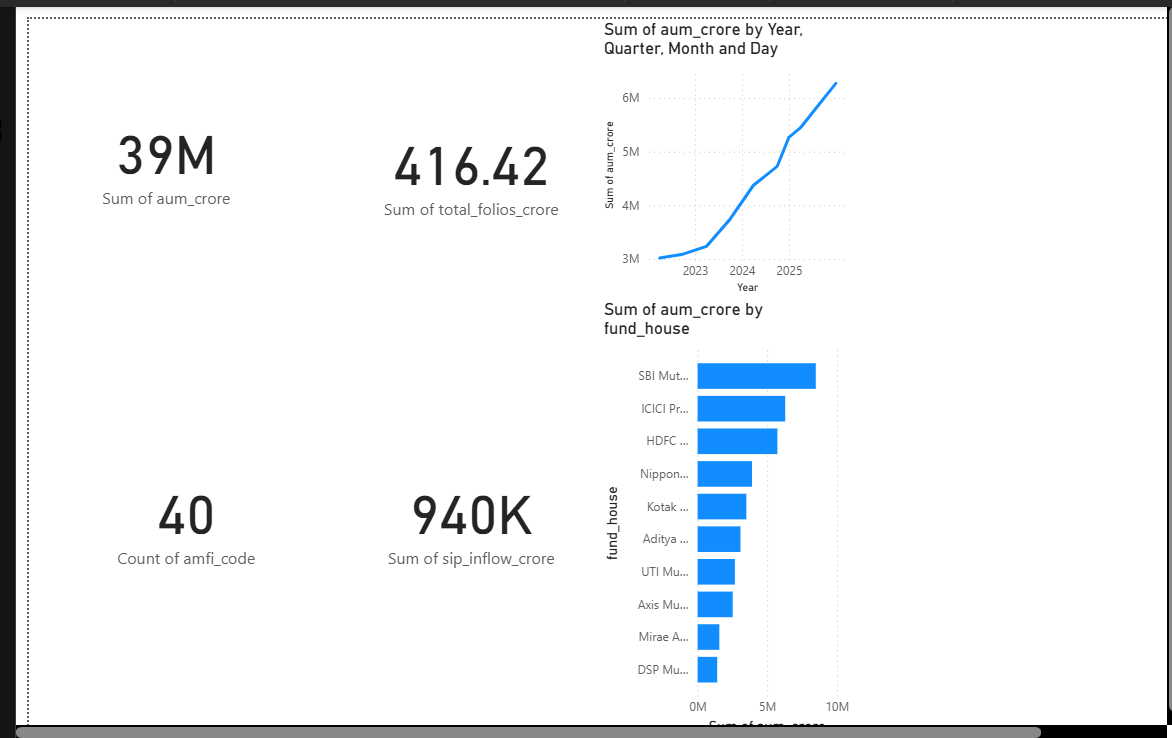

Layout of this report page (visuals, bound fields, positions):
{"tool":"powerbi","page":{"name":"Page 1","canvas":[1280,720],"ordinal":0},"visuals":[{"type":"card","fields":{"Values":["Sum(03_aum_by_fund_house_clean.aum_crore)"]},"box":[10,0,255,280],"z":0},{"type":"card","fields":{"Values":["CountNonNull(01_fund_master_clean.amfi_code)"]},"box":[0,280,315,440],"z":1000},{"type":"card","fields":{"Values":["Sum(06_industry_folio_count_clean.total_folios_crore)"]},"box":[315,11.7,255,280],"z":2000},{"type":"card","fields":{"Values":["Sum(04_monthly_sip_inflows_clean.sip_inflow_crore)"]},"box":[315,280,255,440],"z":3000},{"type":"lineChart","fields":{"Y":["Sum(03_aum_by_fund_house_clean.aum_crore)"],"Category":["03_aum_by_fund_house_clean.date.Variation.Date Hierarchy.Year","03_aum_by_fund_house_clean.date.Variation.Date Hierarchy.Quarter","03_aum_by_fund_house_clean.date.Variation.Date Hierarchy.Month","03_aum_by_fund_house_clean.date.Variation.Date Hierarchy.Day"]},"box":[570,0,255,280],"z":4000},{"type":"clusteredBarChart","fields":{"Category":["03_aum_by_fund_house_clean.fund_house"],"Y":["Sum(03_aum_by_fund_house_clean.aum_crore)"]},"box":[570,280,255,440],"z":5000}]}

Visuals, with their boxes on the page's 1280x720 design canvas (x1, y1, x2, y2). These are canvas units, not pixel positions in the 1172x738 screenshot, which may show the page scaled, cropped or inside an application window:
card - Sum(03_aum_by_fund_house_clean.aum_crore): 10:0:265:280
card - CountNonNull(01_fund_master_clean.amfi_code): 0:280:315:720
card - Sum(06_industry_folio_count_clean.total_folios_crore): 315:12:570:292
card - Sum(04_monthly_sip_inflows_clean.sip_inflow_crore): 315:280:570:720
lineChart - Sum(03_aum_by_fund_house_clean.aum_crore) x 03_aum_by_fund_house_clean.date.Variation.Date Hierarchy.Year: 570:0:825:280
clusteredBarChart - 03_aum_by_fund_house_clean.fund_house x Sum(03_aum_by_fund_house_clean.aum_crore): 570:280:825:720
